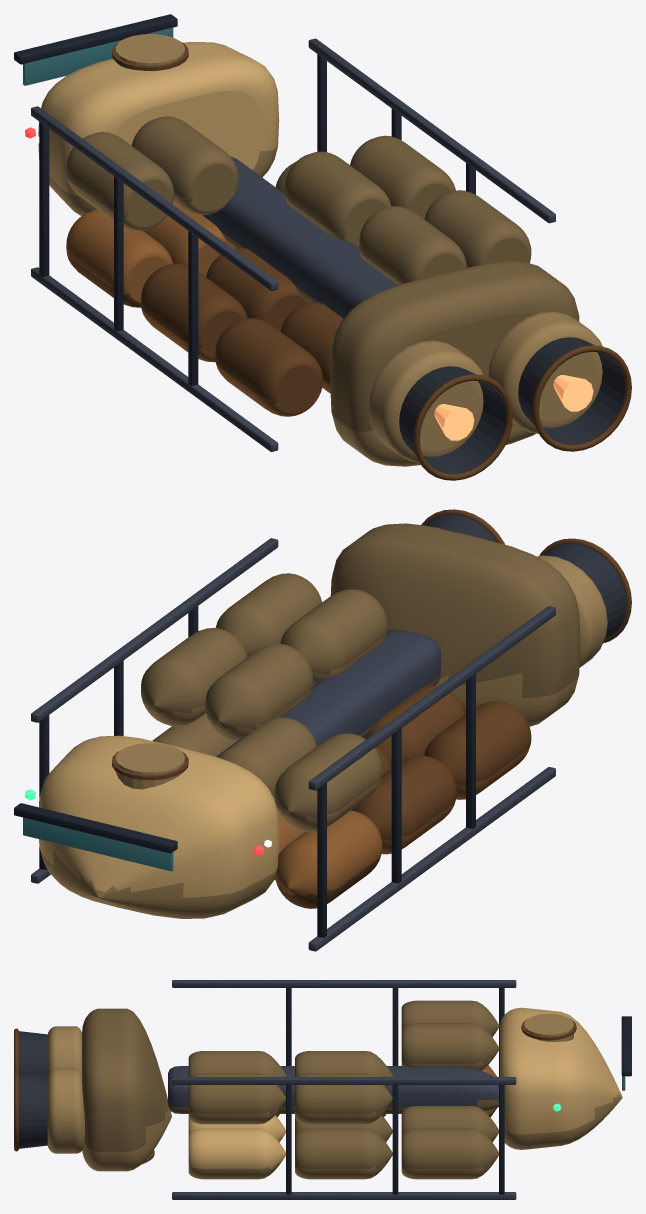
The model's file is mule.glb.
3 views of the same model, one above another, from view 1: azimuth 30°, elevation 25°; view 2: azimuth 150°, elevation 25°; view 3: azimuth 270°, elevation 25° (orthographic). The views are drawn at different scales.
Parts seen in each view (by area): view 1: mule_mesh; view 2: mule_mesh; view 3: mule_mesh.
Part boxes in pixels (box(x1,y1,x2,y2)): mule_mesh: box(14, 14, 631, 480); mule_mesh: box(14, 509, 631, 951); mule_mesh: box(14, 980, 631, 1199).
Size of the model in its own units: 5.76 by 3.55 by 15.09.
